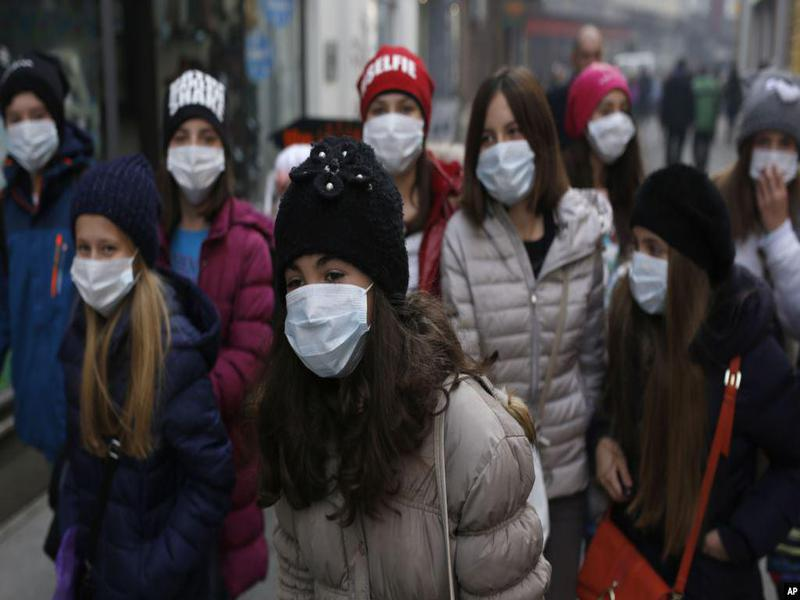with_mask: (268, 253, 381, 380), (464, 69, 551, 211), (68, 211, 151, 317), (362, 88, 428, 180), (628, 226, 689, 319), (1, 86, 64, 176), (164, 117, 226, 205), (568, 84, 635, 161), (737, 121, 800, 190)
